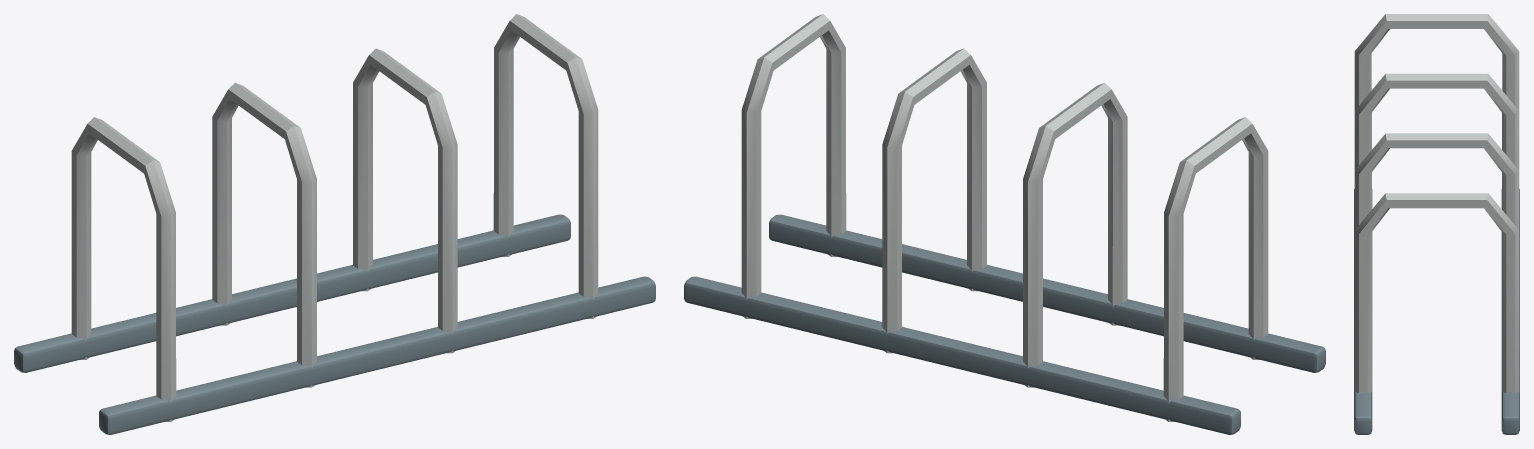
The model's file is bike-rack.glb.
The picture shows the model from 3 angles, left to right: view 1: azimuth 30°, elevation 25°; view 2: azimuth 150°, elevation 25°; view 3: azimuth 270°, elevation 25°; orthographic projection. The views are drawn at different scales.
Parts seen in each view (by area): view 1: ground_rail.001, ground_rail, parking_loop, parking_loop.003, parking_loop.002, parking_loop.001; view 2: ground_rail, ground_rail.001, parking_loop, parking_loop.003, parking_loop.002, parking_loop.001; view 3: parking_loop.003, parking_loop.002, parking_loop.001, parking_loop, ground_rail, ground_rail.001.
Boxes of the visible parts, left/top/right/bottom form: ground_rail.001: left=99, top=276, right=655, bottom=434; ground_rail: left=14, top=214, right=570, bottom=372; parking_loop: left=71, top=117, right=176, bottom=421; parking_loop.003: left=493, top=14, right=598, bottom=318; parking_loop.002: left=353, top=48, right=457, bottom=353; parking_loop.001: left=212, top=83, right=316, bottom=387; ground_rail: left=684, top=276, right=1240, bottom=434; ground_rail.001: left=769, top=214, right=1325, bottom=372; parking_loop: left=1163, top=117, right=1268, bottom=421; parking_loop.003: left=741, top=14, right=846, bottom=318; parking_loop.002: left=882, top=48, right=986, bottom=353; parking_loop.001: left=1023, top=83, right=1127, bottom=387; parking_loop.003: left=1354, top=193, right=1519, bottom=393; parking_loop.002: left=1354, top=133, right=1519, bottom=282; parking_loop.001: left=1354, top=73, right=1519, bottom=209; parking_loop: left=1354, top=14, right=1519, bottom=149; ground_rail: left=1501, top=189, right=1519, bottom=434; ground_rail.001: left=1354, top=189, right=1372, bottom=434.
Size of the model in its own units: 1.8 by 0.777 by 0.54.
